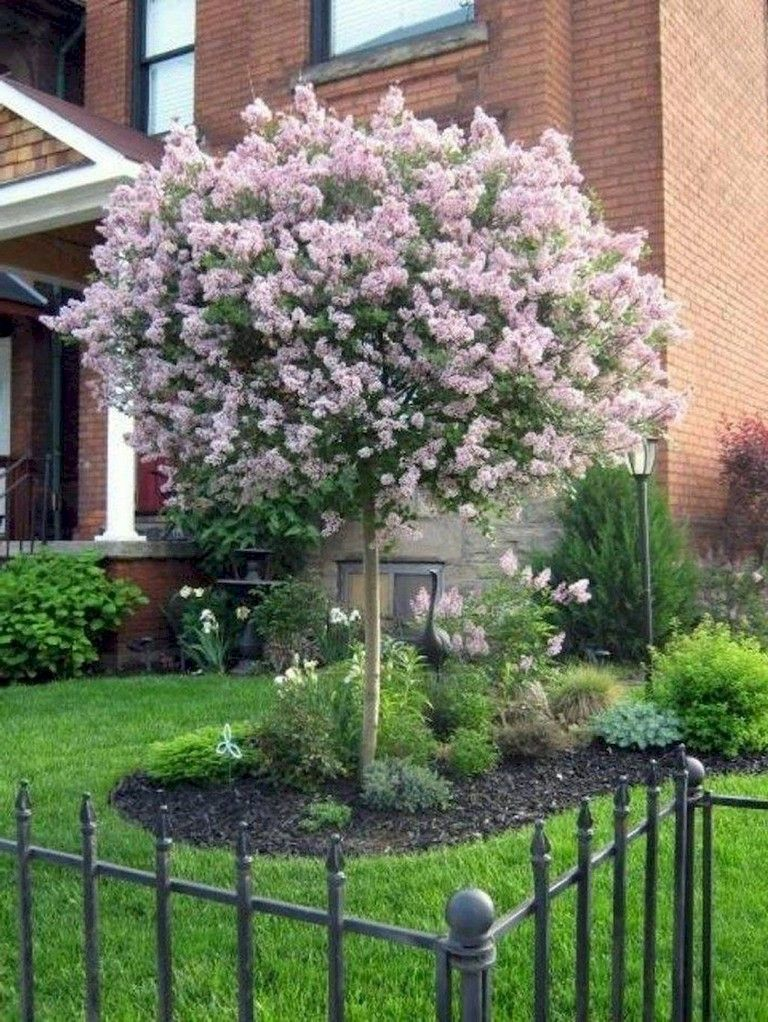tree: (75, 88, 675, 791)
